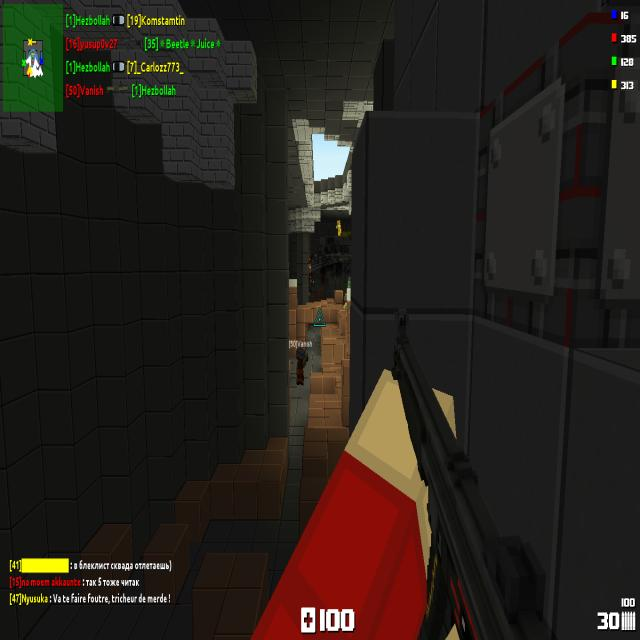enemy: (336, 220, 341, 236)
